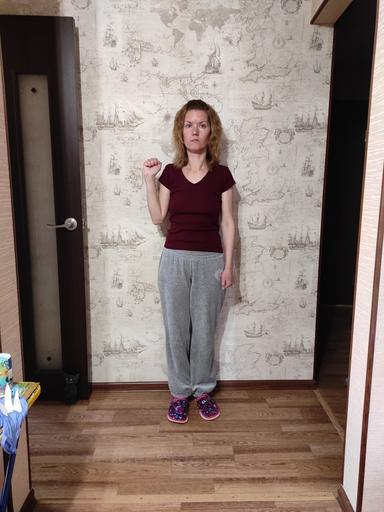fist: (142, 157, 163, 178)
